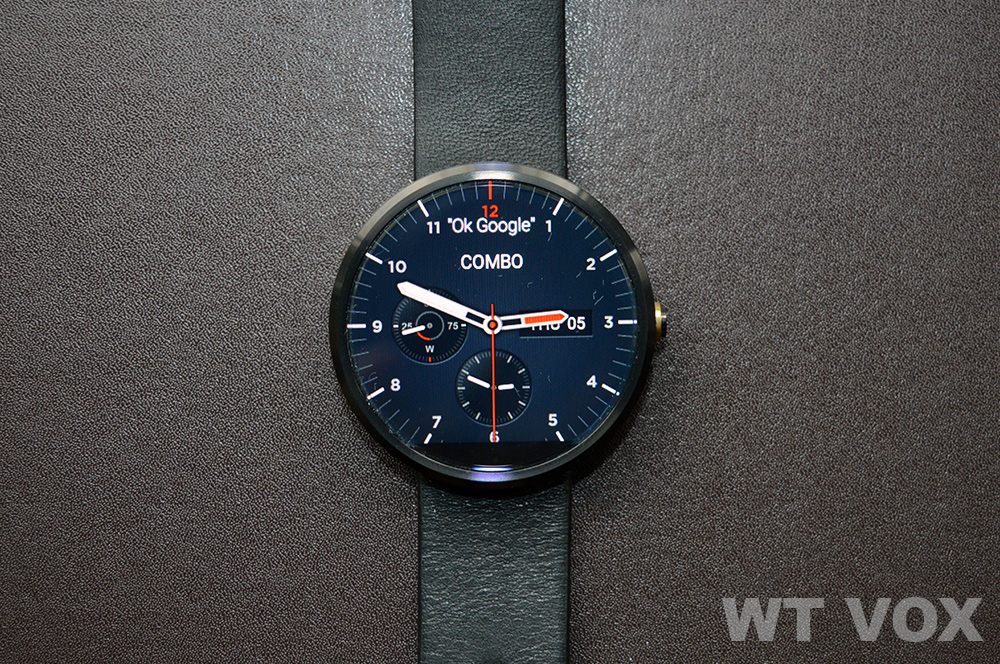clock: (330, 163, 659, 493)
